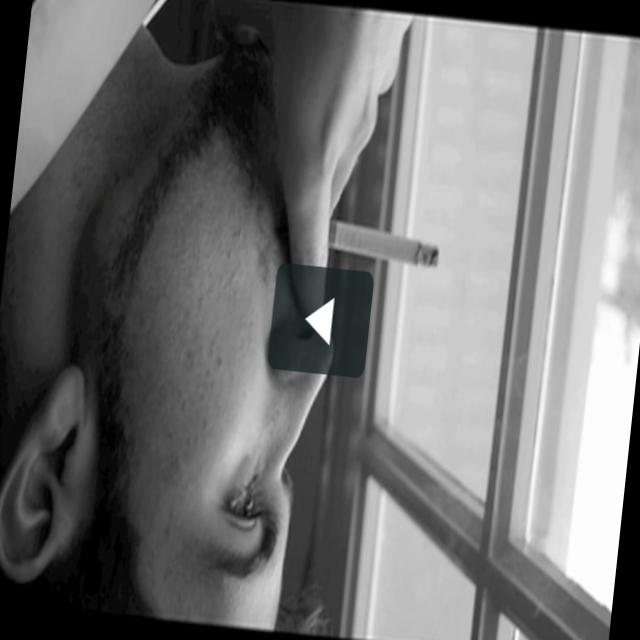cigarette: (332, 190, 448, 278)
